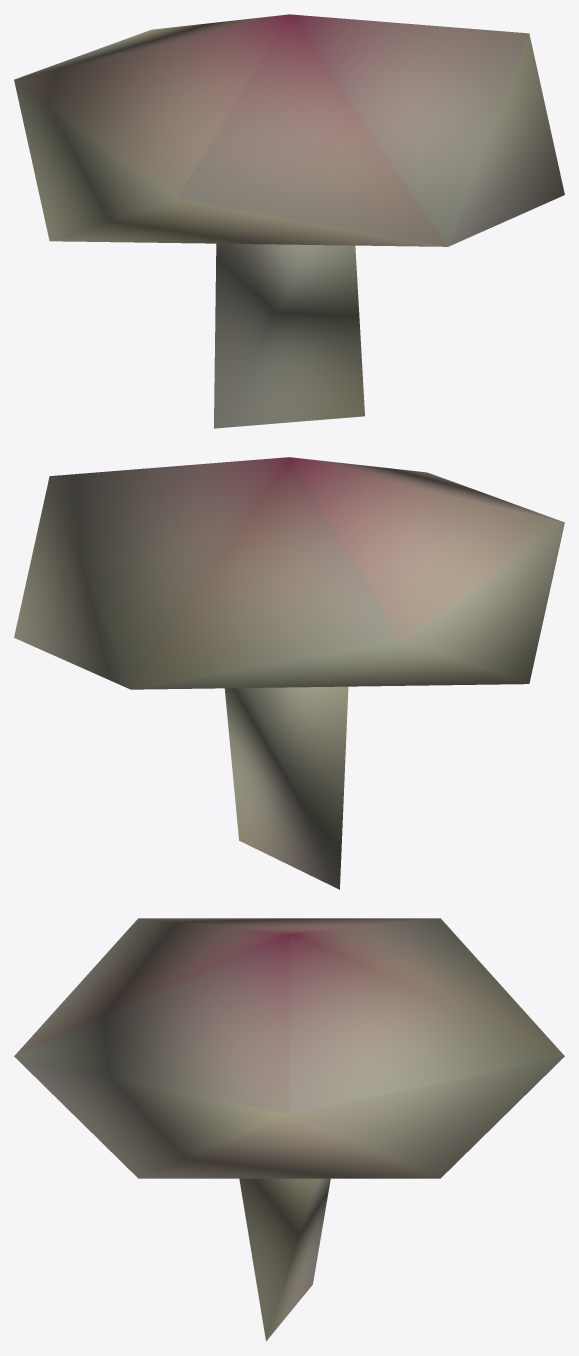
The model's file is mushroom_bk_foret_broceliande_0005.glb.
3 renders of one model, top to bottom at view 1: azimuth 30°, elevation 25°; view 2: azimuth 150°, elevation 25°; view 3: azimuth 270°, elevation 25°, orthographic. The views are drawn at different scales.
Visible parts, largest first — view 1: mushroom_bk_005; view 2: mushroom_bk_005; view 3: mushroom_bk_005.
Part boxes in pixels (bbox=[...]): mushroom_bk_005: bbox=[14, 14, 564, 428]; mushroom_bk_005: bbox=[14, 457, 564, 889]; mushroom_bk_005: bbox=[14, 918, 564, 1341].
Bounding box in the file's own units: 0.4921 × 0.4 × 0.5271.
